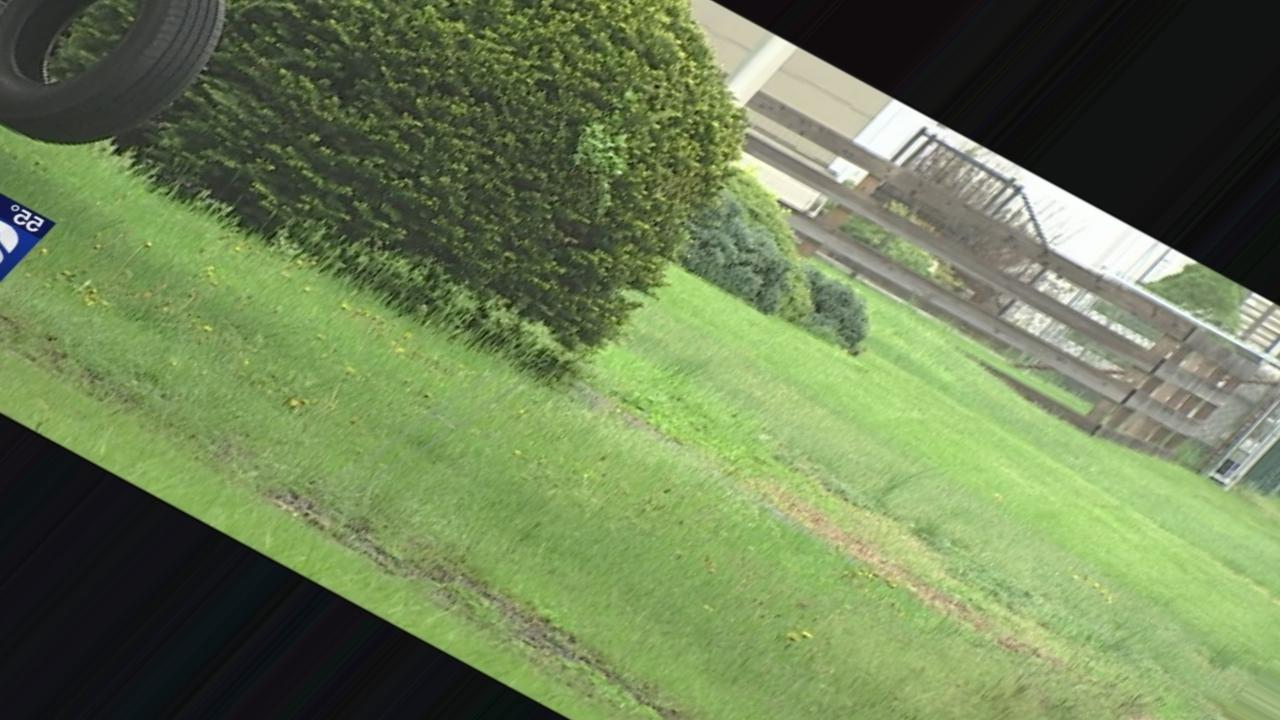patch: (791, 499, 834, 540), (896, 570, 944, 606), (843, 532, 884, 568)
